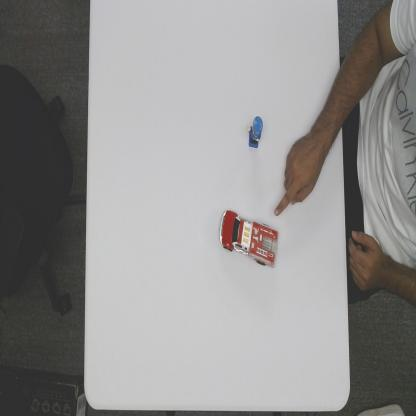Arm: (314, 78, 340, 160)
Firetruck: (219, 207, 279, 273)
Hand: (274, 138, 321, 217)
